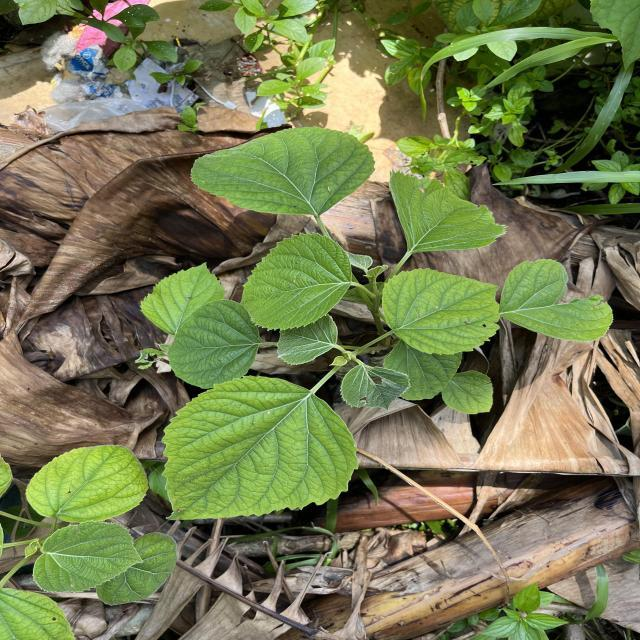Clerodendrum infortunatum: (160, 374, 361, 521), (188, 126, 378, 217), (238, 231, 354, 332), (381, 266, 501, 358), (388, 168, 510, 254), (25, 443, 151, 524), (499, 258, 614, 343), (166, 298, 262, 390), (31, 520, 146, 596), (138, 260, 228, 336), (440, 370, 494, 415)
